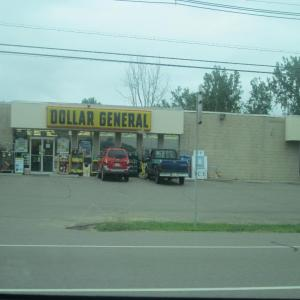Vehicle-registration-plate: (173, 174, 179, 179), (116, 163, 120, 167)
